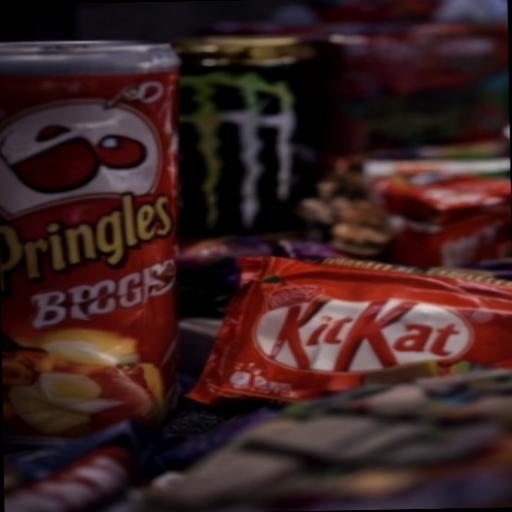kitkat: (176, 225, 512, 447)
